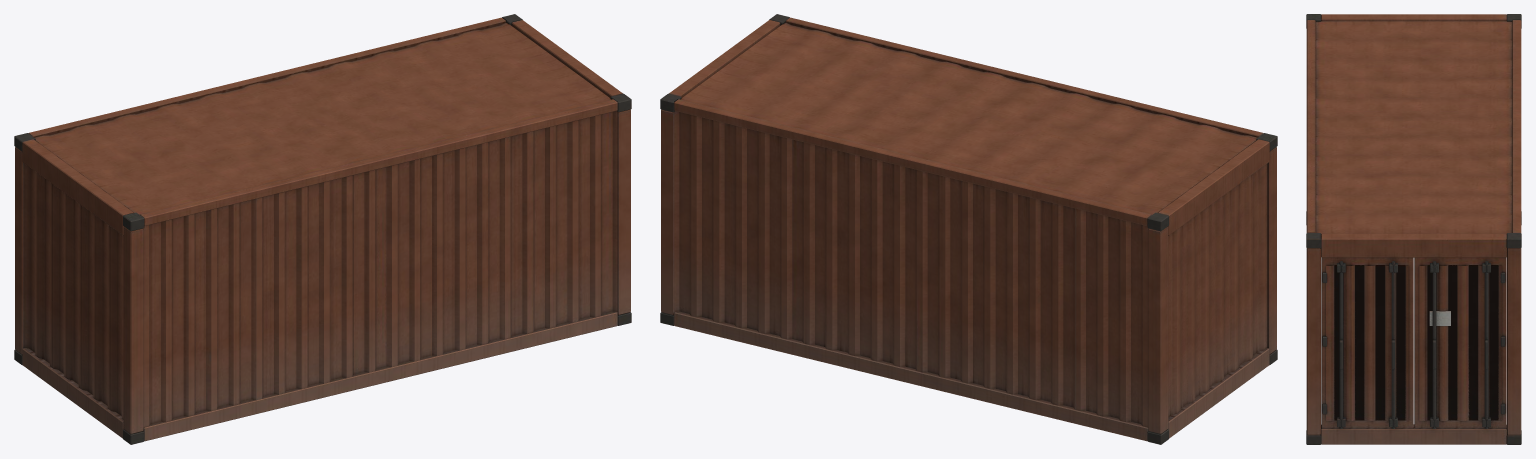
File: container20_brown.glb
The picture shows the model from 3 angles, left to right: view 1: azimuth 30°, elevation 25°; view 2: azimuth 150°, elevation 25°; view 3: azimuth 270°, elevation 25°; orthographic projection. The views are drawn at different scales.
Parts seen in each view (by area): view 1: container20_brown; view 2: container20_brown; view 3: container20_brown.
Part boxes in pixels (x1,y1,x2,y2): container20_brown: [14, 14, 631, 444]; container20_brown: [660, 14, 1277, 444]; container20_brown: [1306, 14, 1521, 444].
Size of the model in its own units: 6.18 by 2.59 by 2.45.
1 material, 1 textured.
